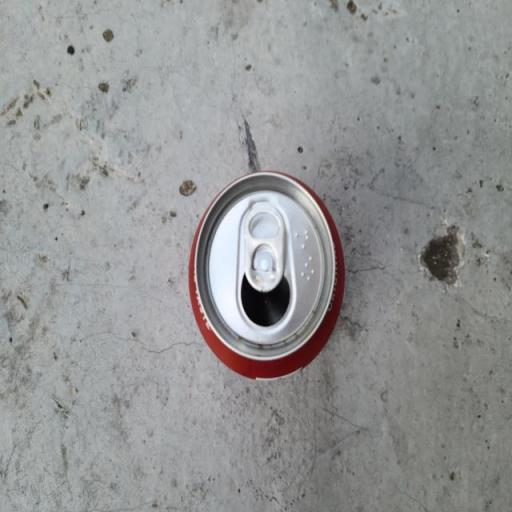metal: (163, 120, 384, 465)
